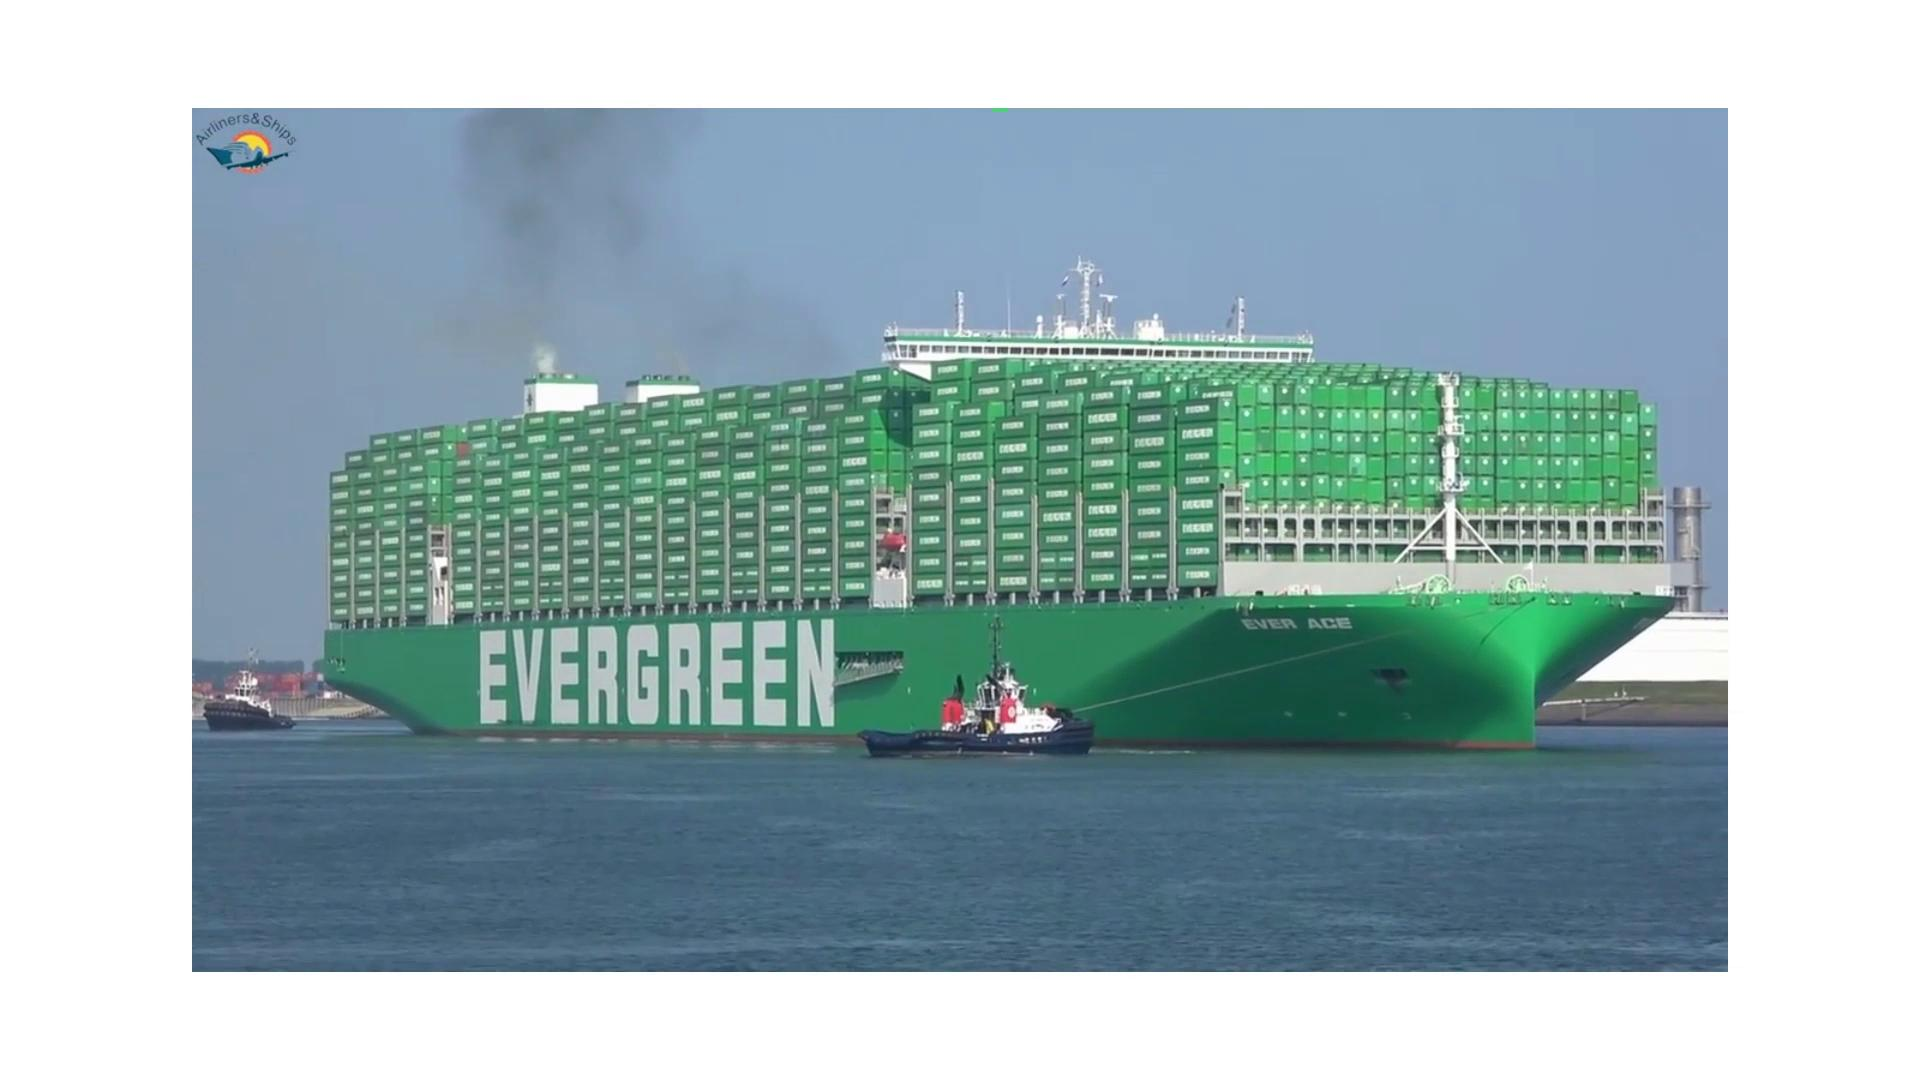OCR: (452, 609, 861, 742), (1226, 597, 1366, 641)
